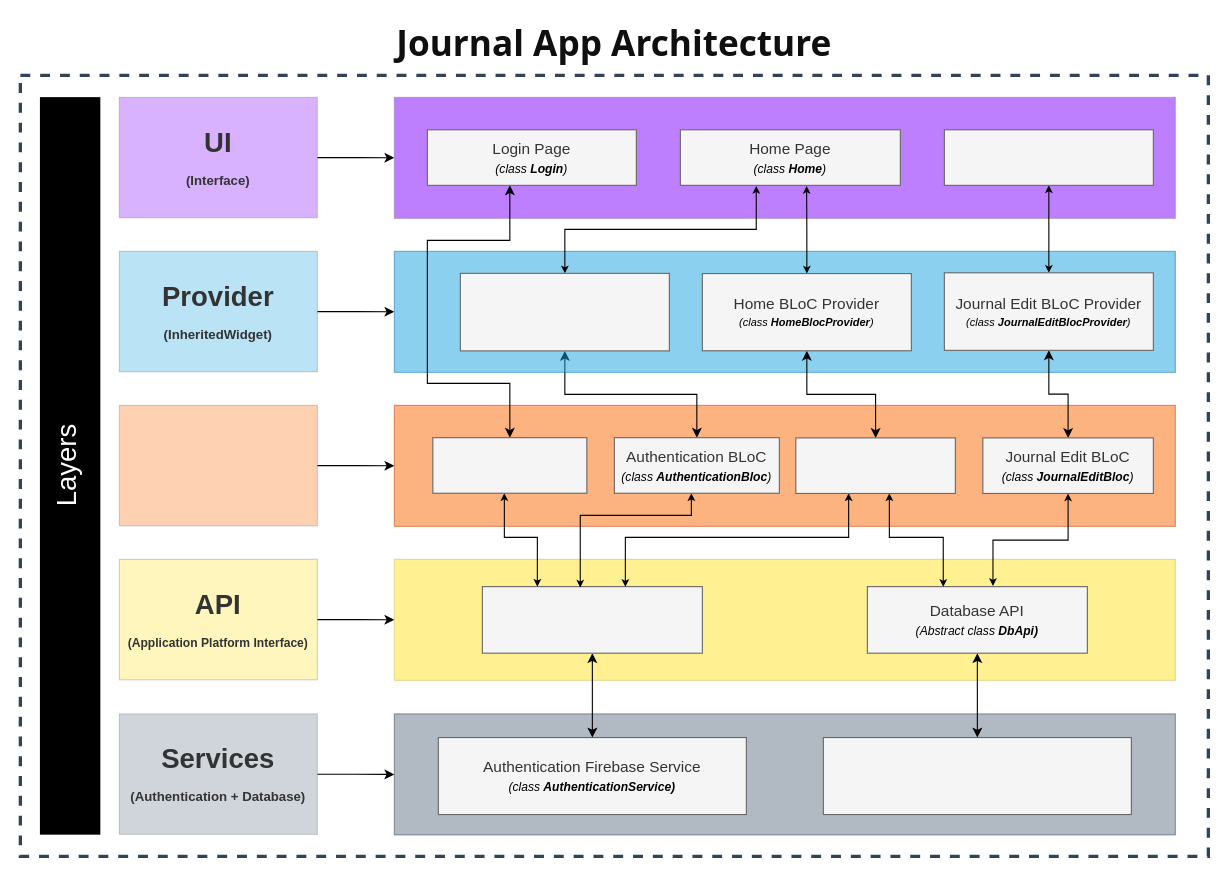
Image size: 1229x877. Some labels were removed from this diagram. Each missing label, with the centre of its shape:
"Authentication API (Abstract class AuthenticationApi)" belongs at (591,619).
"Authentication BLoC Provider (class AuthenticationBlocProvider )" belongs at (564,311).
"BLoC (Business Logic Component)" belongs at (217,465).
"Cloud Firestore ( class DbFirestoreService)" belongs at (976,775).
"Home BLoC (class HomeBloc )" belongs at (875,465).
"Journal Edit Page (class EditEntry )" belongs at (1048,157).
"Login BLoC (class LoginBloc )" belongs at (509,465).
